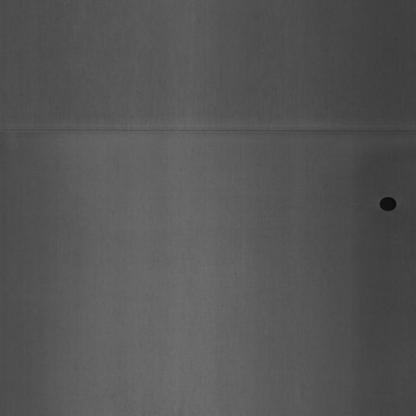punching_hole: (378, 191, 398, 217)
welding_line: (6, 107, 414, 150)
